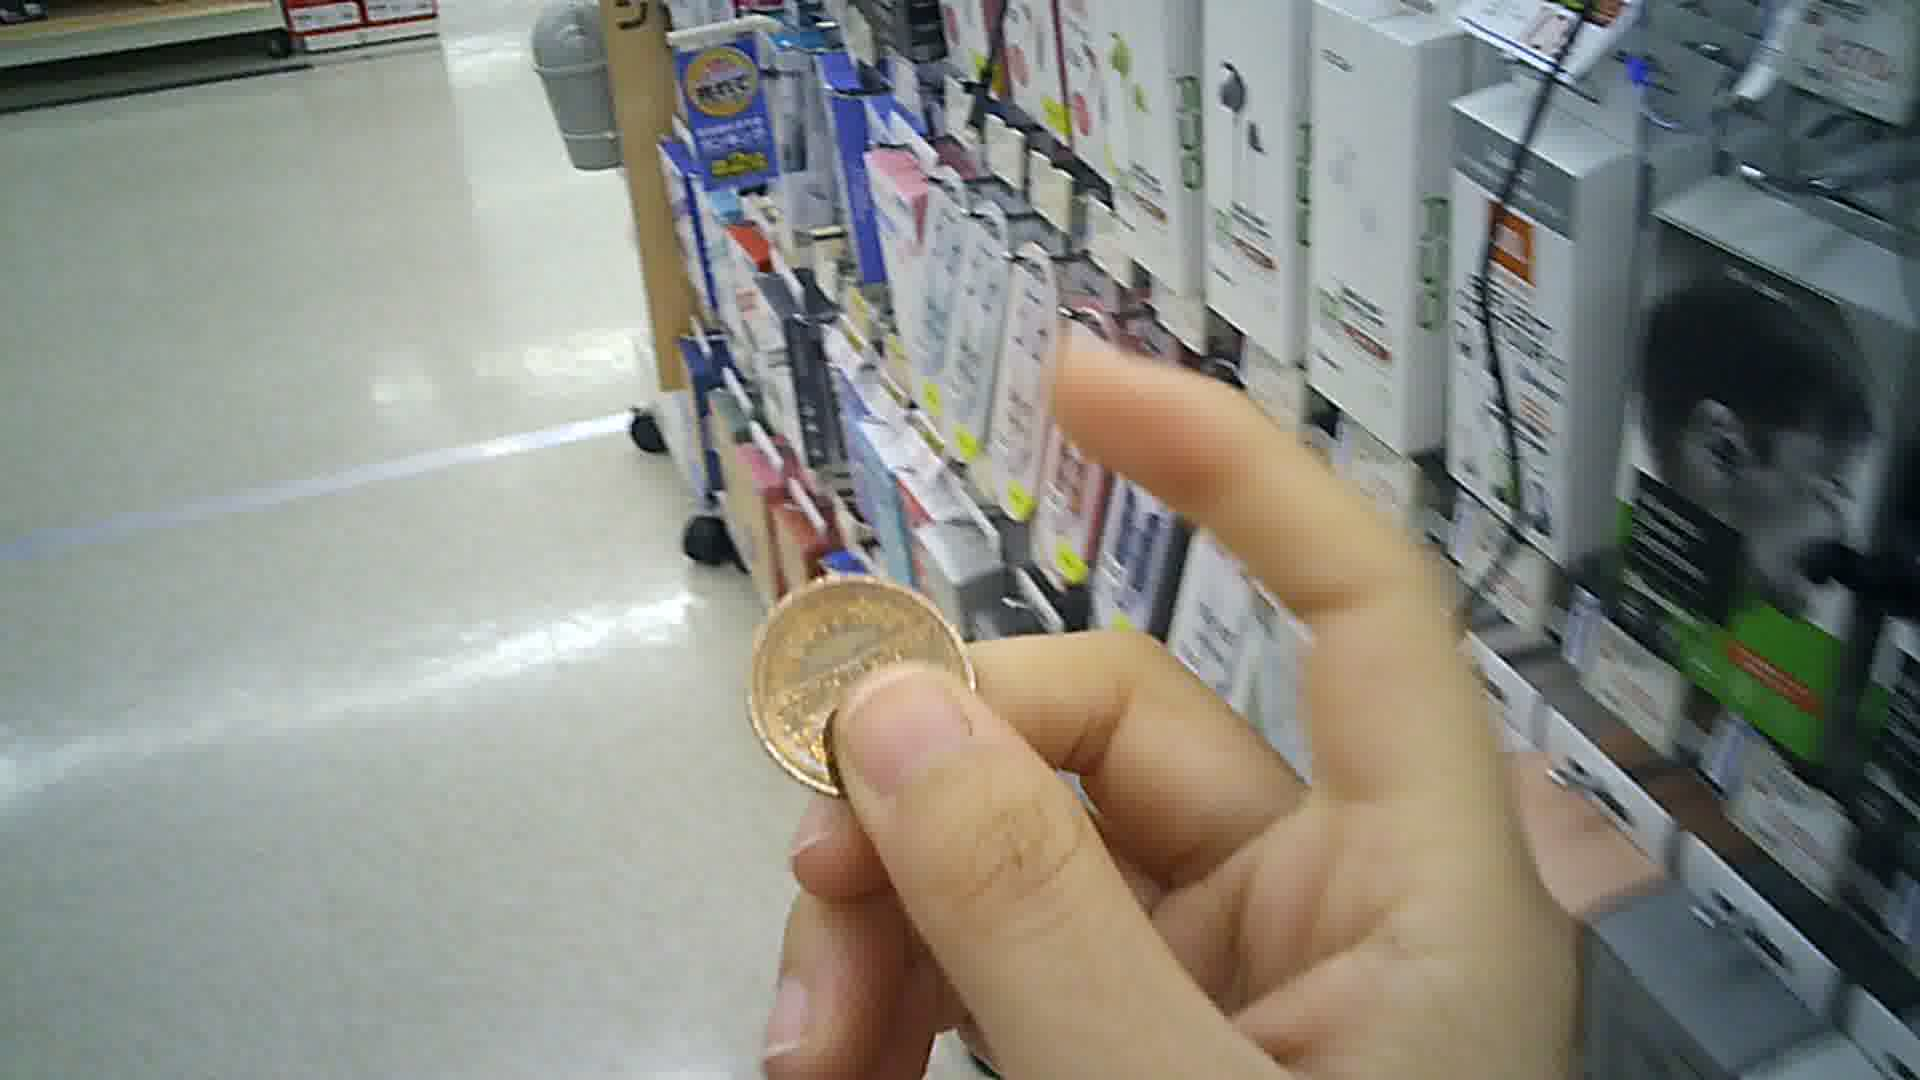10 Yen: (741, 570, 982, 793)
